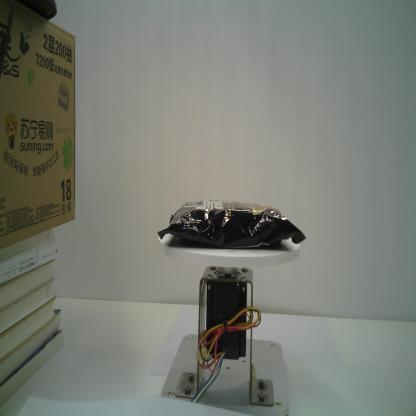Instant Noodles: (157, 198, 308, 248)
